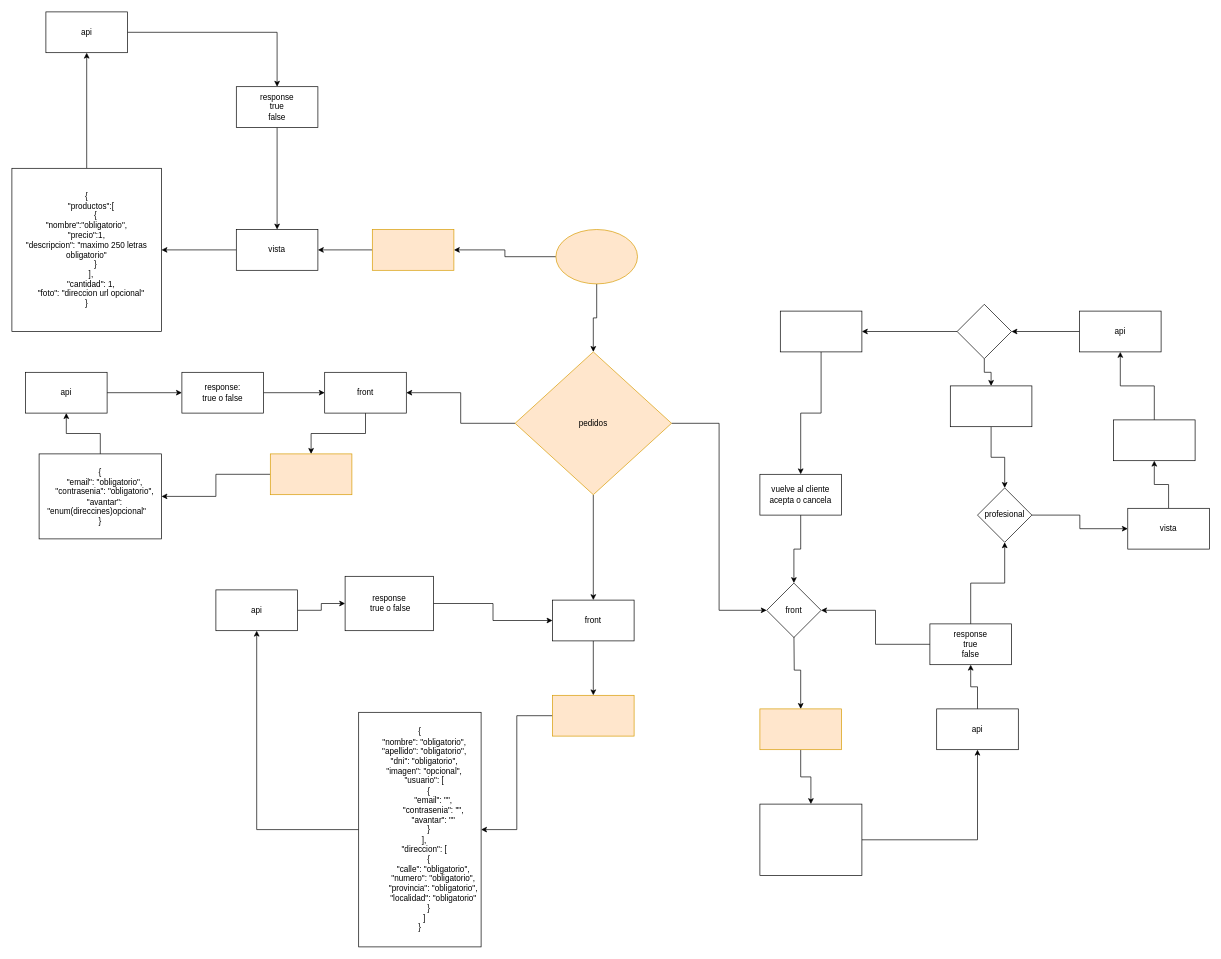
The diagram is 1221 pixels wide and 959 high, and some of its shapes have lost their labels. The box of each missing label's shape, as (x1, y1, x2, y2) in pixels:
cliente: (555, 229, 638, 284)
comprar producto: (372, 229, 454, 270)
crear clientes: (552, 695, 634, 736)
crear orden de trabajo: (759, 708, 842, 750)
false: (950, 385, 1032, 427)
login: (270, 453, 352, 495)
response: (956, 304, 1012, 359)
true: (780, 310, 862, 352)
{ "descripcion": "maximo 250 letras obligatorio" }: (759, 803, 862, 876)
{ "precio": 1 }: (1113, 419, 1195, 461)
